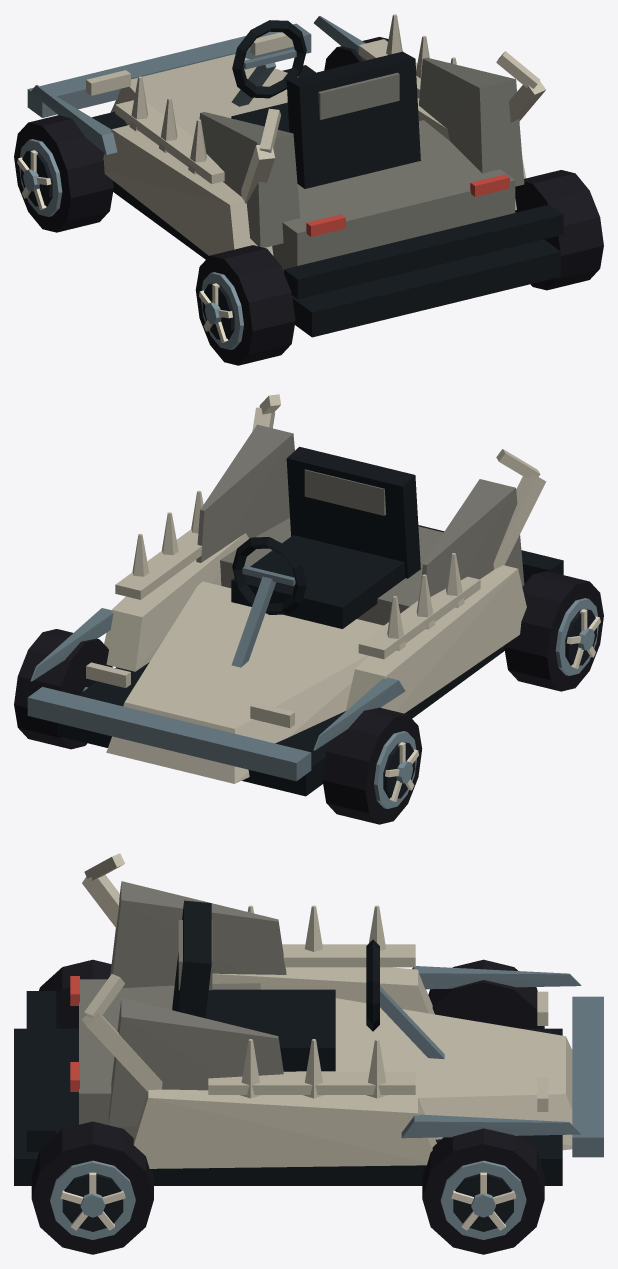
The model's file is kart.glb.
3 renders of one model, top to bottom at view 1: azimuth 30°, elevation 25°; view 2: azimuth 150°, elevation 25°; view 3: azimuth 270°, elevation 25°, orthographic. The views are drawn at different scales.
Parts seen in each view (by area): view 1: chassis, wheel-rear-left, wheel-front-left, wheel-rear-right, wheel-front-right; view 2: chassis, wheel-front-left, wheel-rear-left, wheel-front-right; view 3: chassis, wheel-rear-right, wheel-front-right, wheel-front-left, wheel-rear-left.
Boxes of the visible parts, box(x1,y1,x2,y2) form: chassis: box(27, 14, 563, 337); wheel-rear-left: box(195, 245, 295, 365); wheel-front-left: box(14, 115, 113, 232); wheel-rear-right: box(515, 170, 603, 290); wheel-front-right: box(324, 37, 388, 70); chassis: box(27, 394, 563, 796); wheel-front-left: box(322, 707, 422, 824); wheel-rear-left: box(504, 571, 603, 691); wheel-front-right: box(14, 629, 112, 749); chassis: box(14, 853, 603, 1185); wheel-rear-right: box(31, 1121, 153, 1254); wheel-front-right: box(422, 1128, 544, 1254); wheel-front-left: box(428, 959, 544, 1028); wheel-rear-left: box(39, 959, 111, 1028).
Size of the model in its own units: 2.38 by 1.38 by 2.99.
